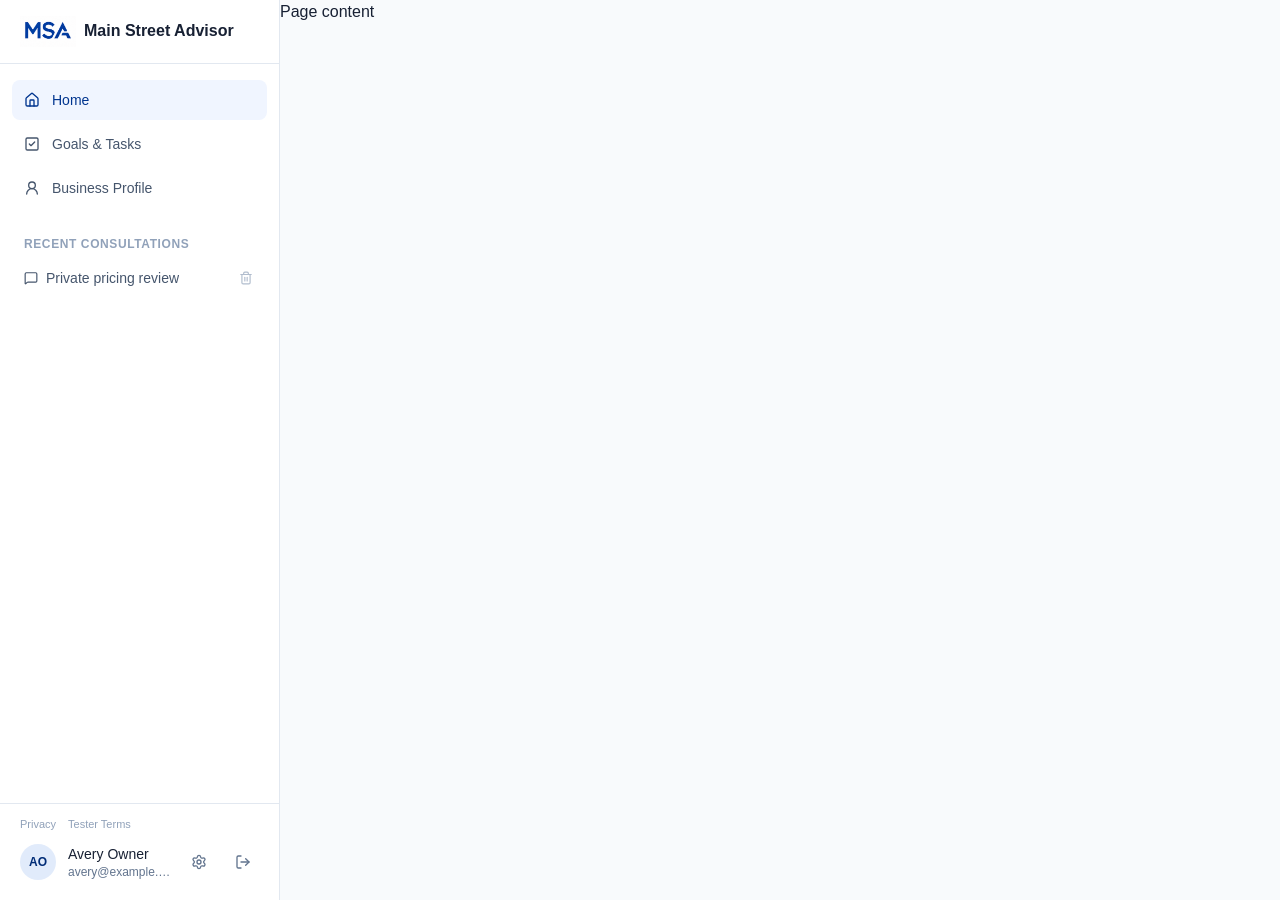
Test case: account navigation › removes a consultation only after explicit confirmation
The width and height of the screenshot is (1280, 900).
Click the button named "Delete consultation: Private pricing review".
click(246, 278)  # box [233,265,259,291]
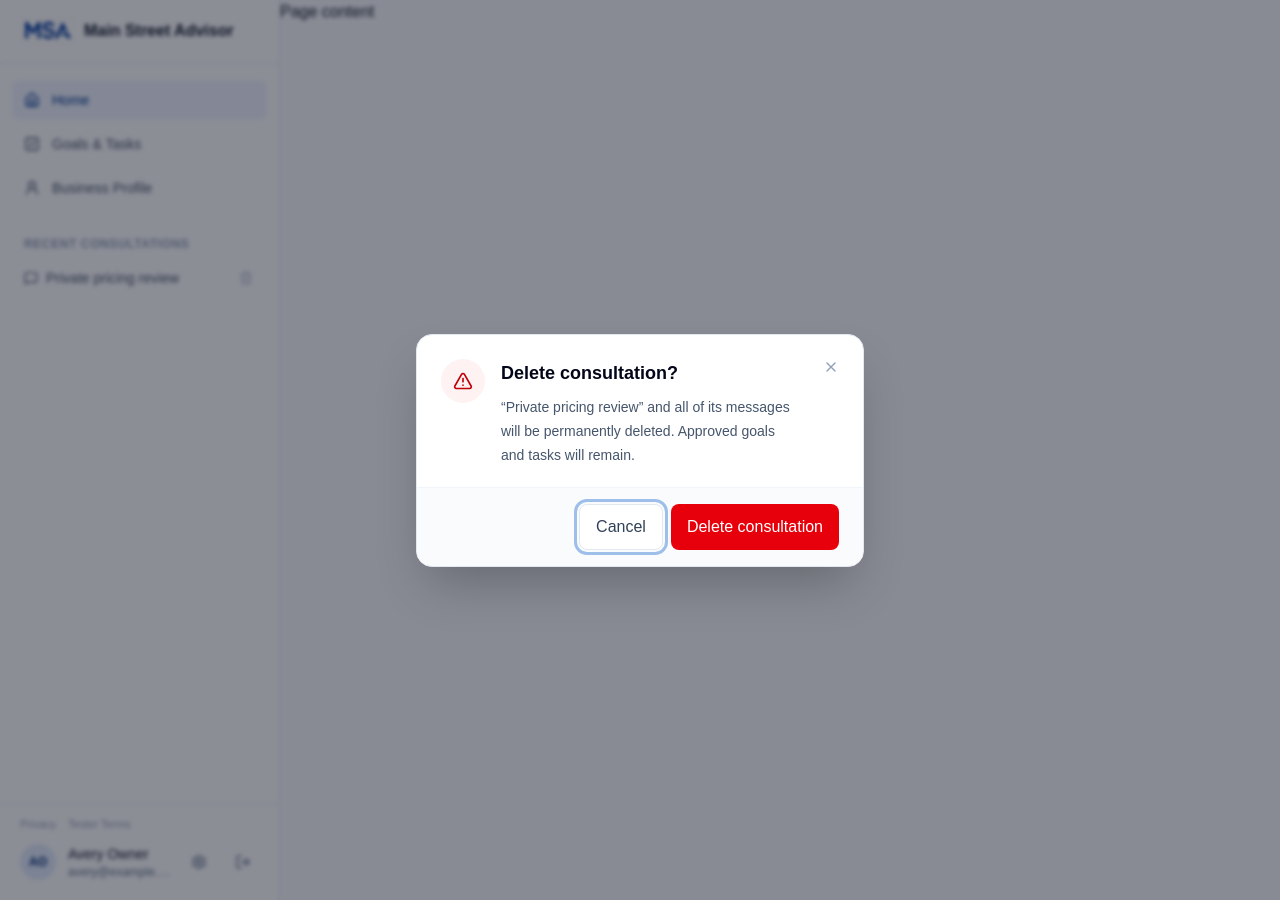
Click the button "Cancel".
click(621, 526)  # box [579,504,663,550]
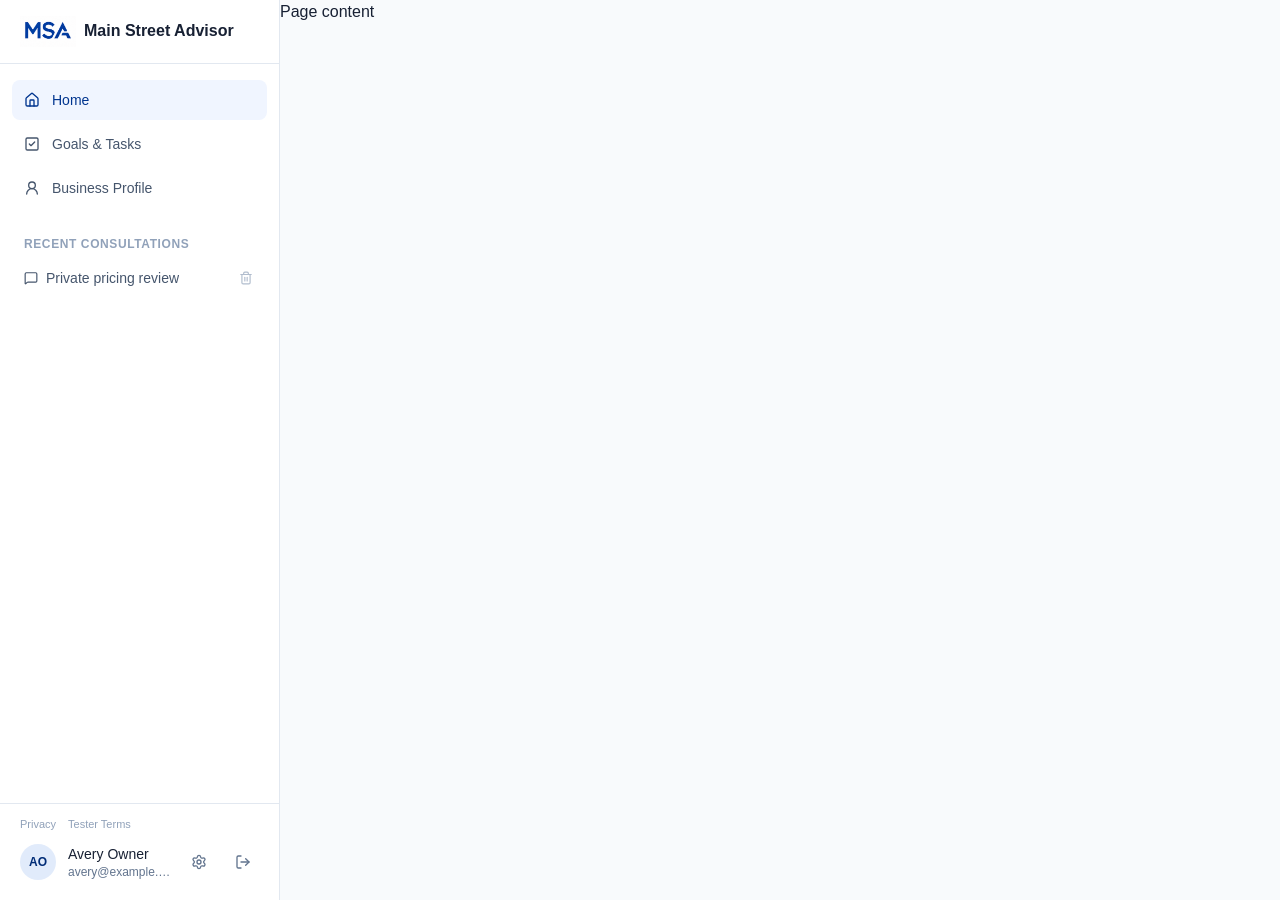
Click the button named "Delete consultation: Private pricing review".
click(246, 278)  # box [233,265,259,291]
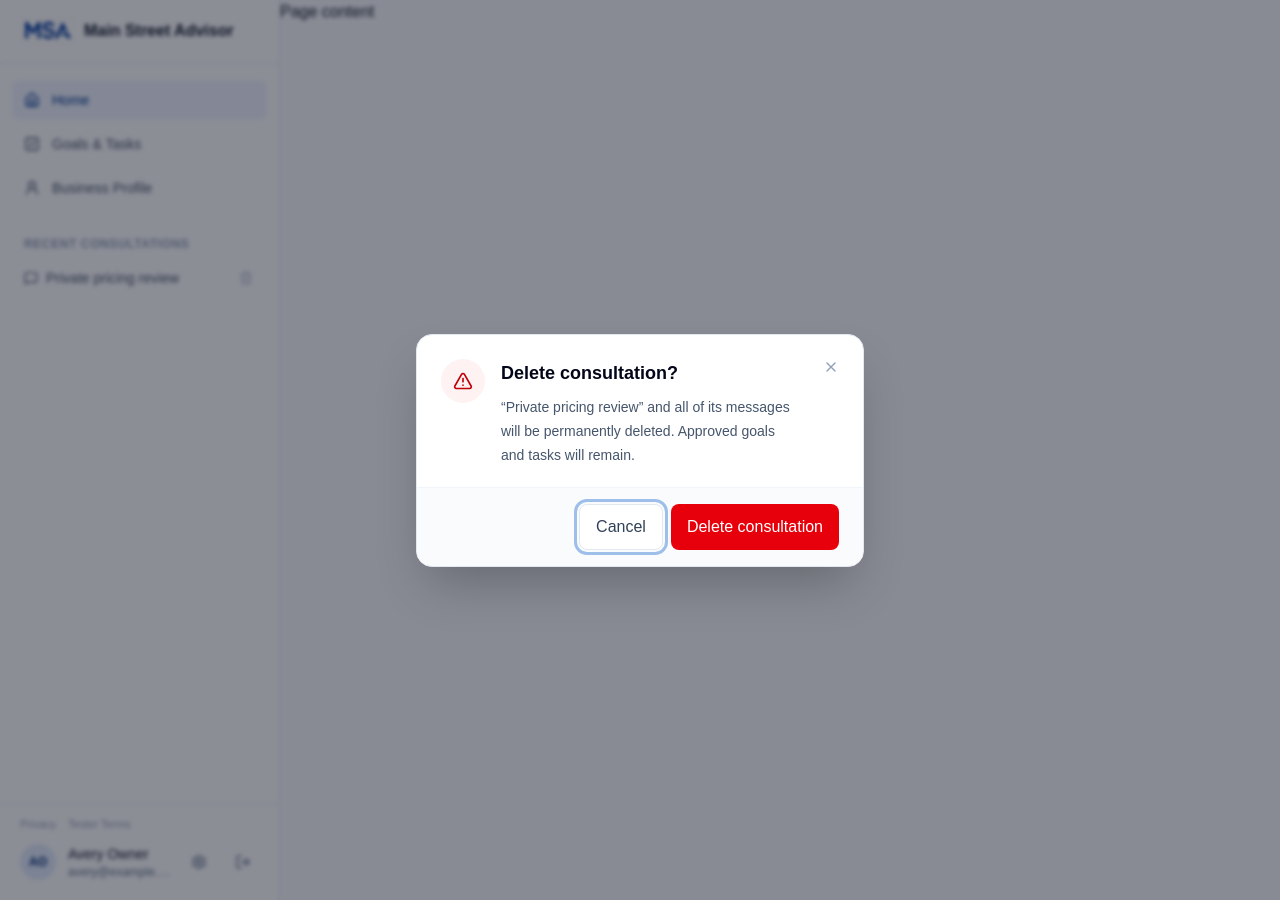
Click the button "Delete consultation".
click(755, 526)  # box [671,504,839,550]
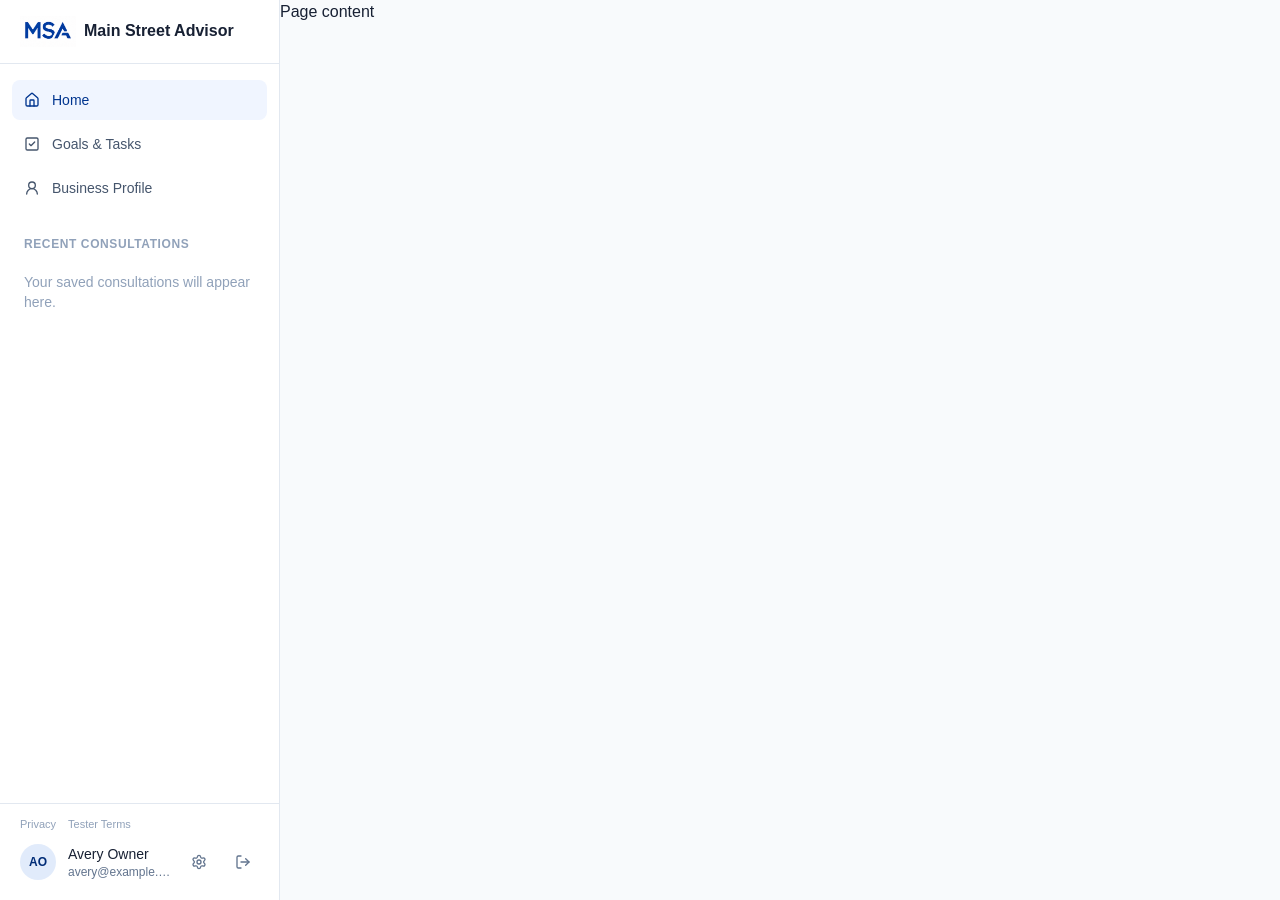
Expected: the link "Private pricing review" is gone
